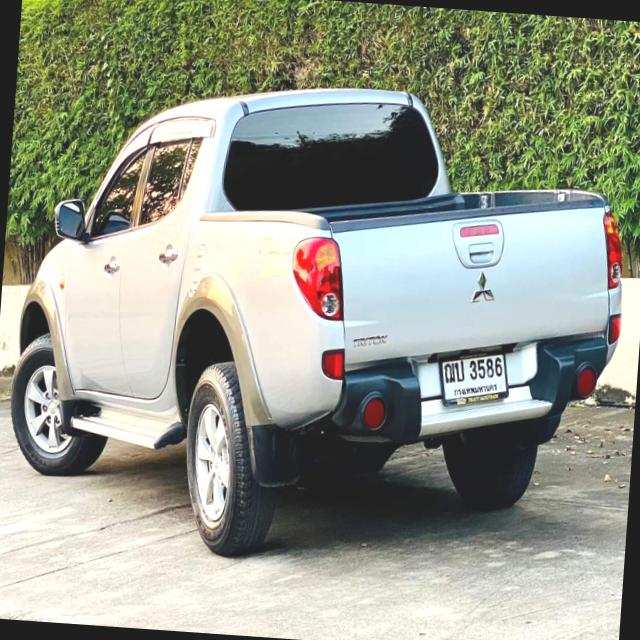license_plate: (434, 344, 516, 414)
